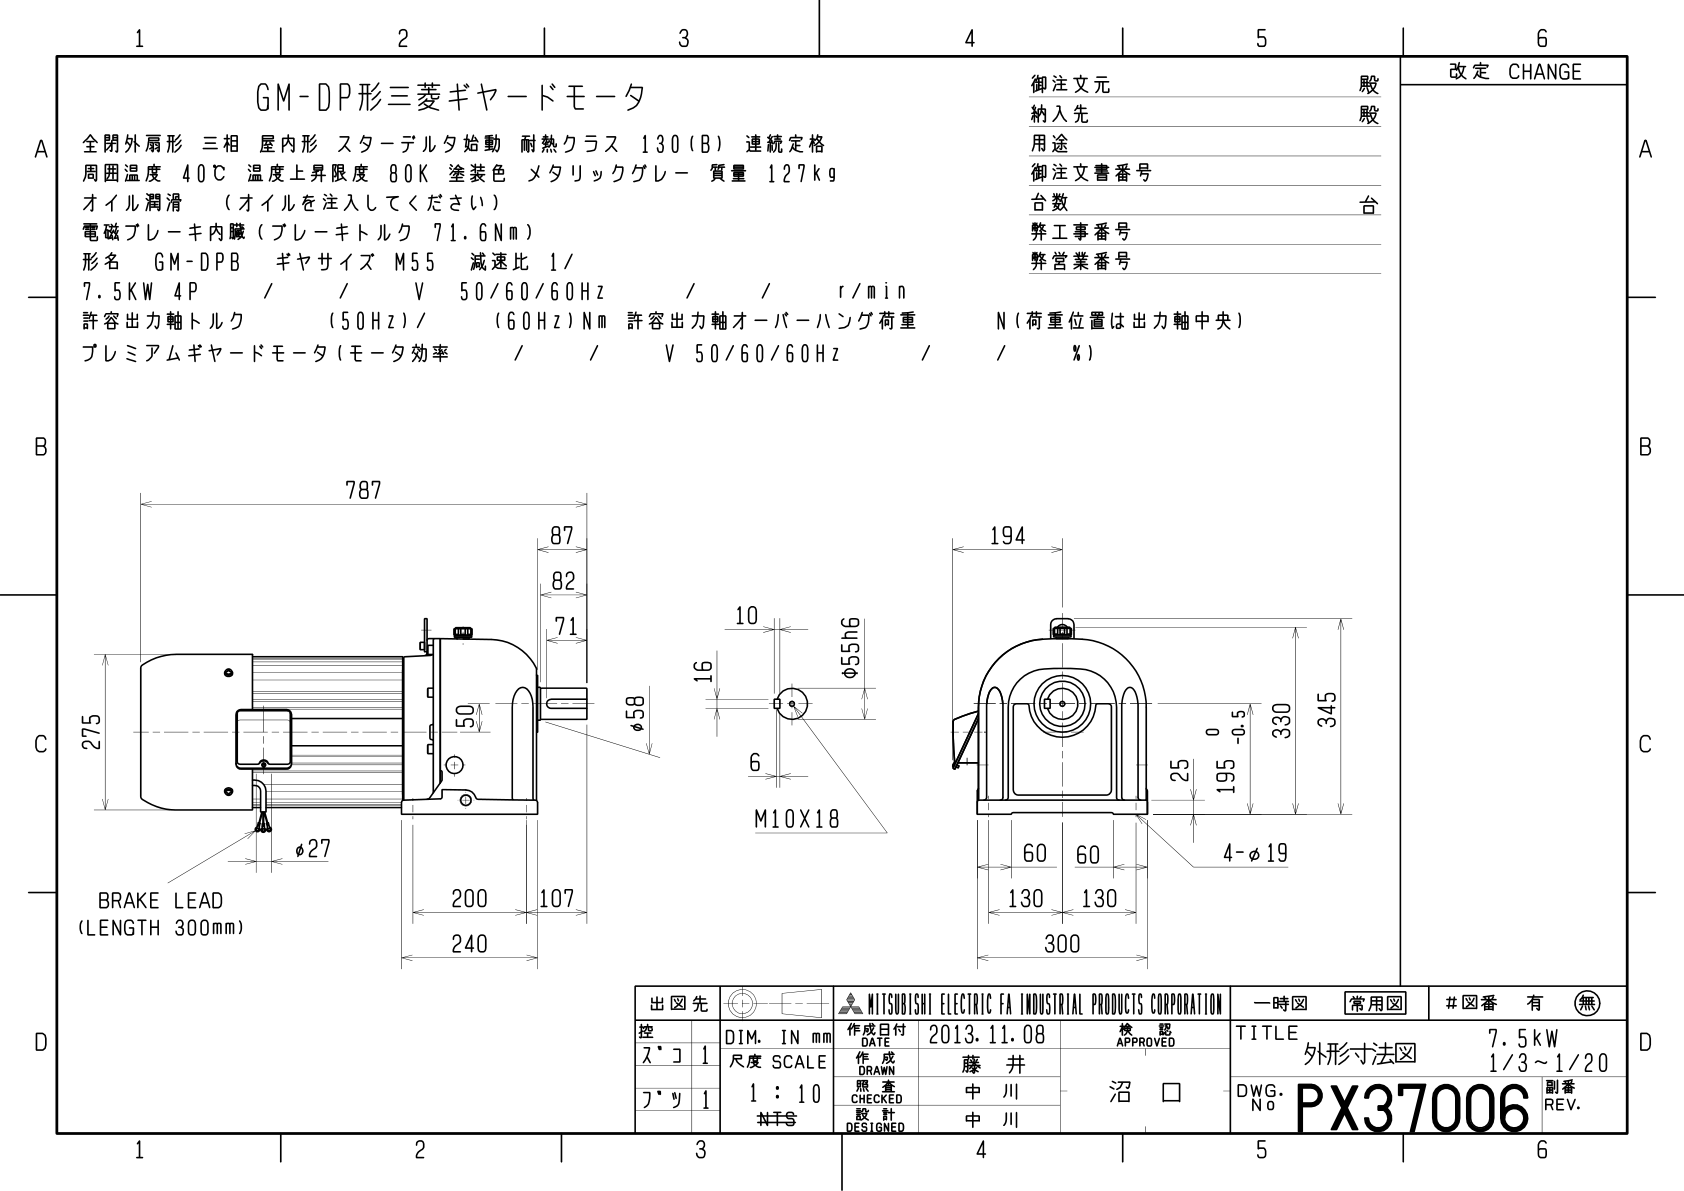GM_DP_屋内_三相_脚: (71, 447, 1381, 967)
